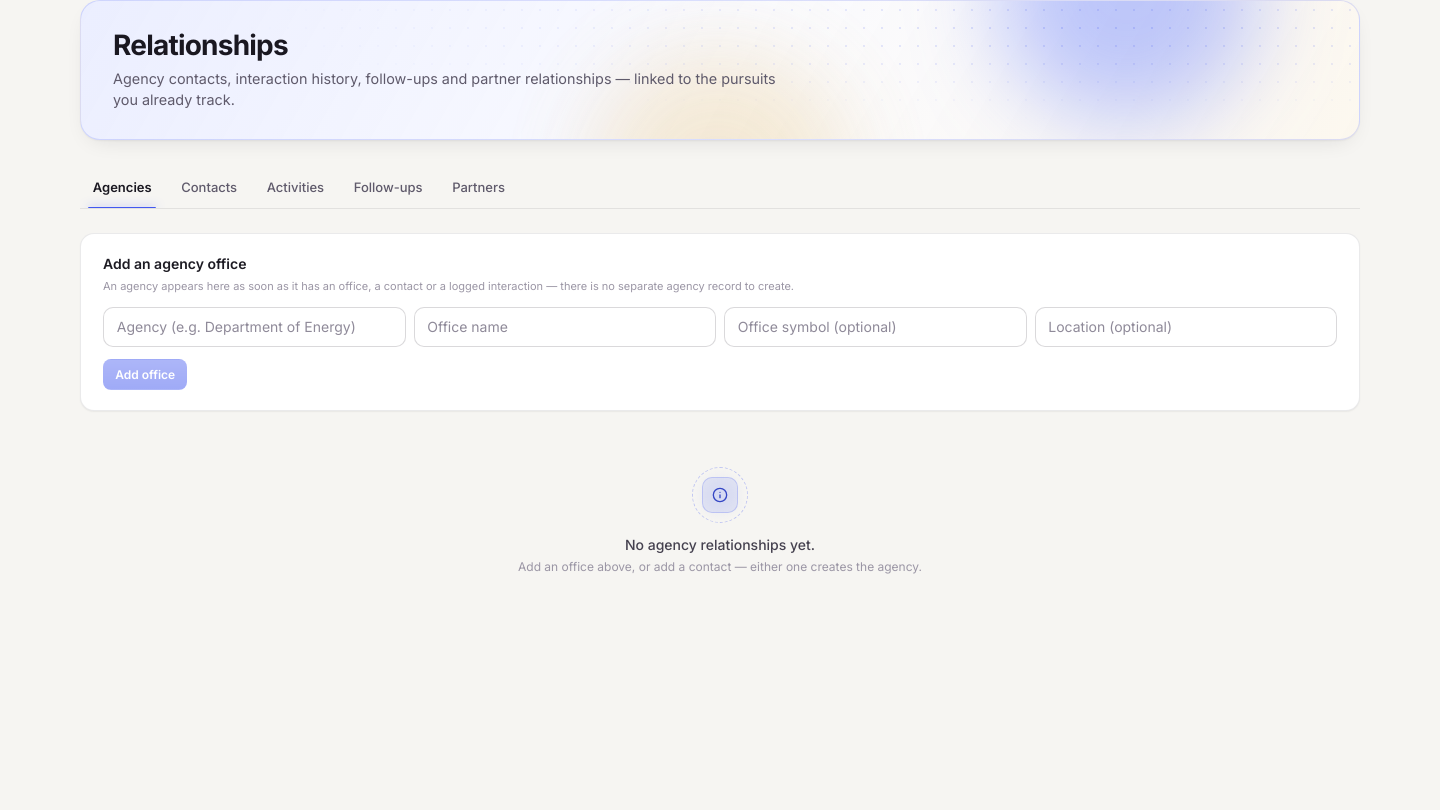
Test: CRM page — linking a follow-up › offers both a contact and an opportunity picker
This screenshot has width=1440, height=810.
Click the button "Follow-ups": (388, 188) top-left (341, 168), bottom-right (435, 208)
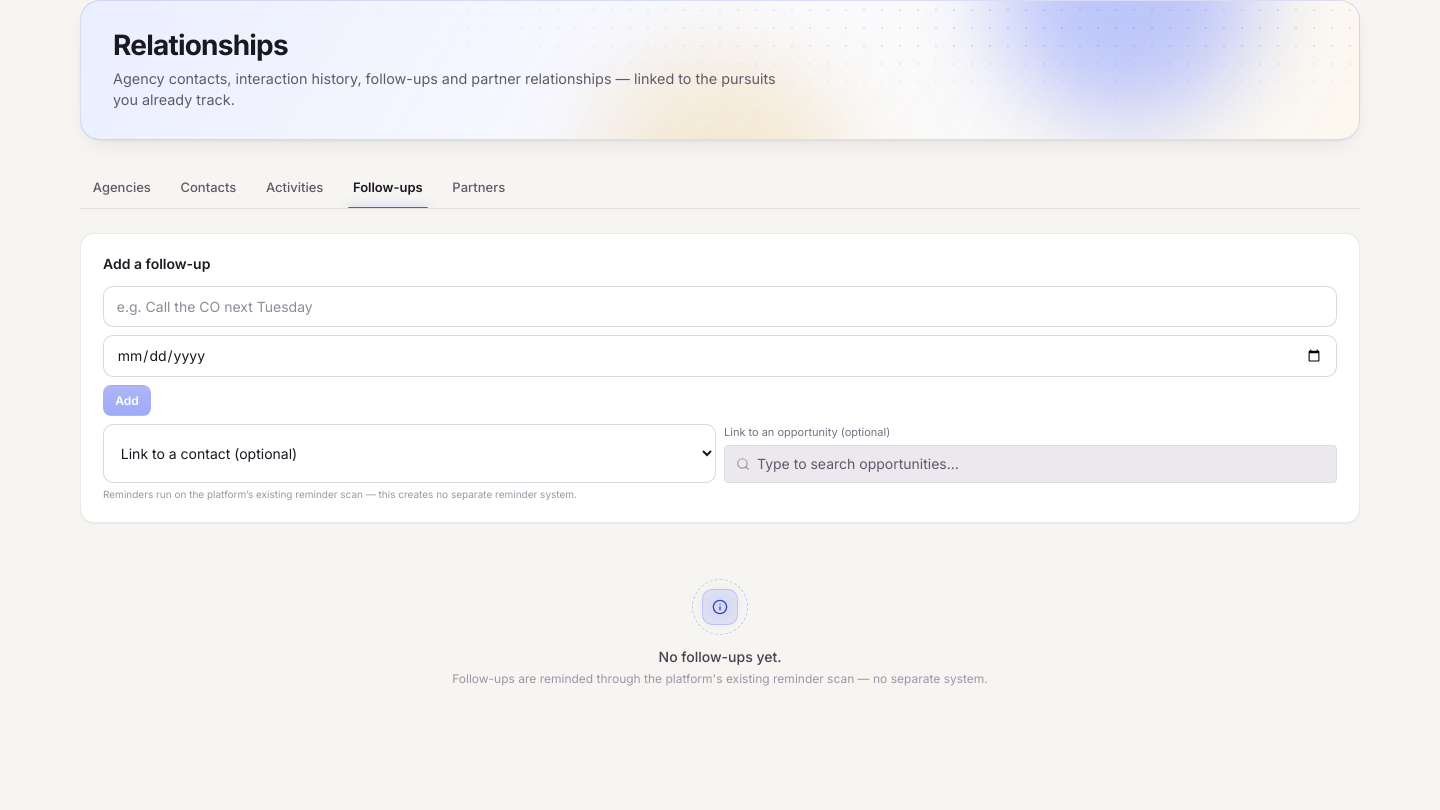
Expected: the dropdown named "Link to contact" is shown, top-left (103, 424), bottom-right (716, 483)
Expected: the dropdown named "Link to an opportunity (optional)" is shown, top-left (724, 445), bottom-right (1337, 483)
